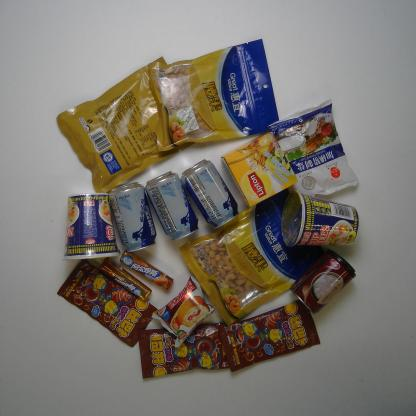Alcohol: (179, 158, 239, 232), (146, 167, 200, 241), (108, 180, 158, 254)
Candy: (55, 260, 161, 350), (216, 296, 323, 373), (134, 320, 242, 380), (98, 253, 152, 300), (119, 247, 174, 290)
Canned Food: (288, 249, 360, 316)
Dessert: (150, 276, 217, 349)
Dried Fruit: (176, 183, 334, 328), (56, 55, 198, 196), (148, 37, 280, 152)
Instant Drink: (218, 130, 300, 208)
Instant Noodles: (279, 188, 360, 249), (61, 191, 122, 260)
Seasoner: (267, 95, 360, 207)
